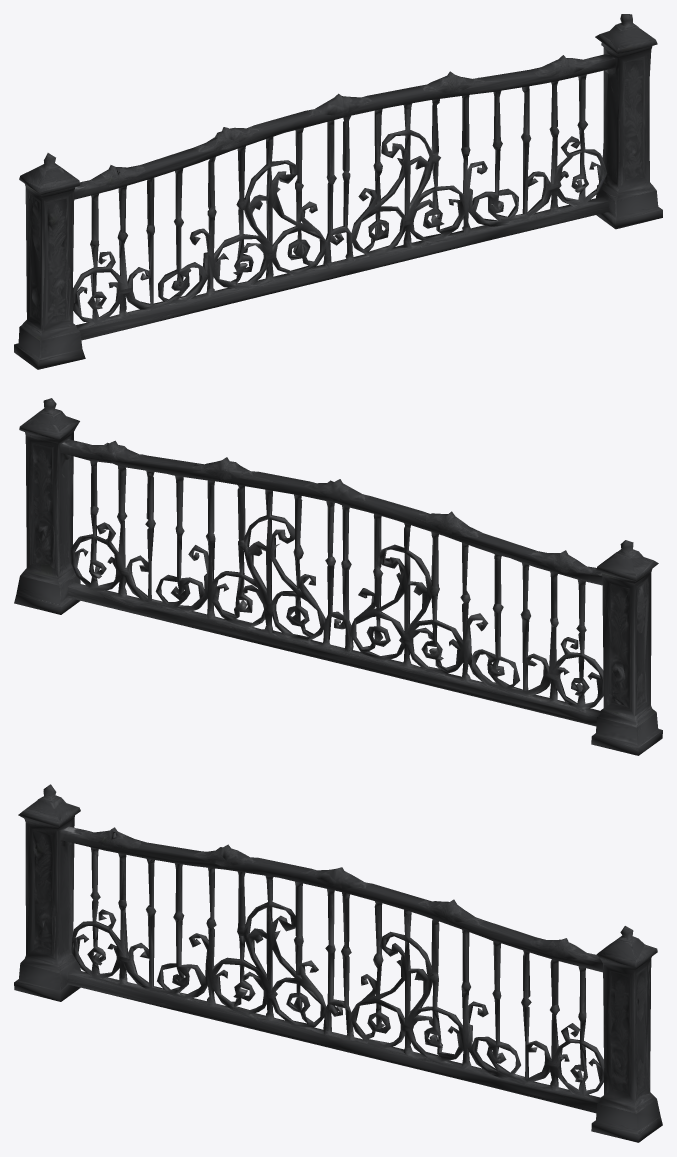
File: env_railing.glb
3 views of the same model, one above another, from view 1: azimuth 30°, elevation 25°; view 2: azimuth 150°, elevation 25°; view 3: azimuth 330°, elevation 25° (orthographic).
Visible parts, largest first — view 1: Mesh_0; view 2: Mesh_0; view 3: Mesh_0.
Boxes of the visible parts, x1,y1,x2,y2 form: Mesh_0: (14,14,662,369); Mesh_0: (14,398,662,755); Mesh_0: (14,784,662,1142).
Size of the model in its own units: 3.24 by 1 by 0.2208.
1 material, 1 textured.
